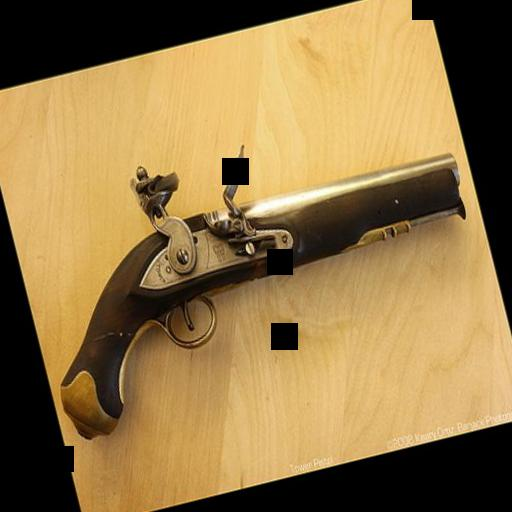Handgun: (8, 86, 500, 444)
